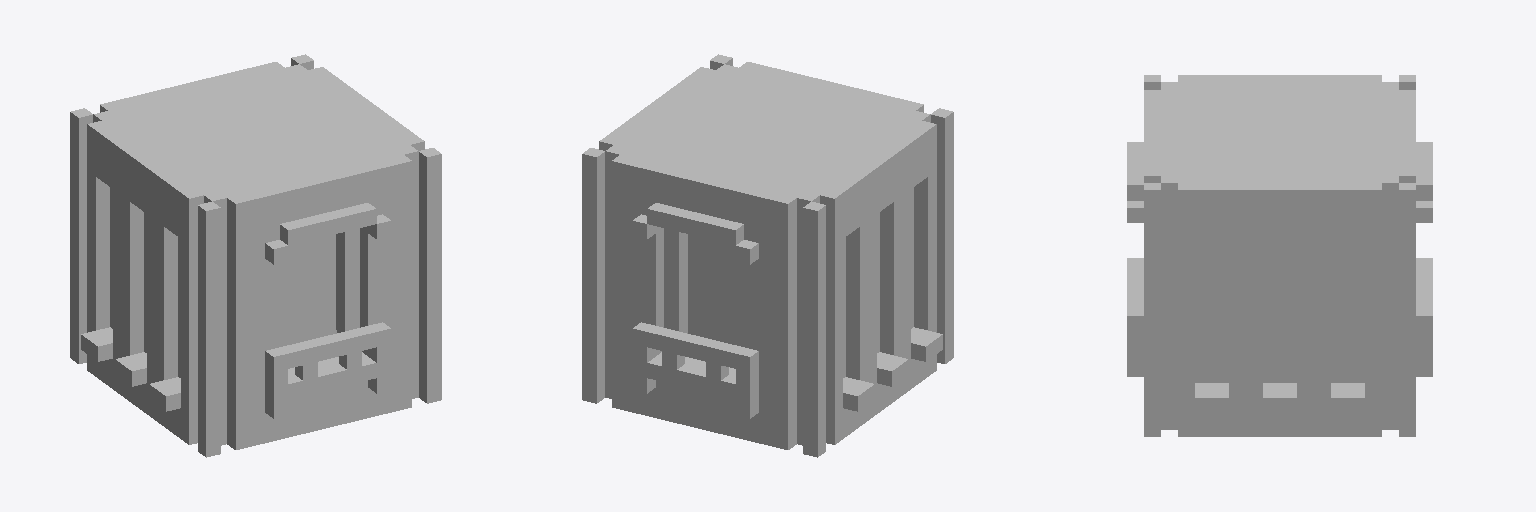
File: BiDirectional BigWindows Layer.obj
3 renders of one model, left to right at view 1: azimuth 30°, elevation 25°; view 2: azimuth 150°, elevation 25°; view 3: azimuth 270°, elevation 25°, orthographic.
Visible parts, largest first — view 1: BiDirectional BigWindows Layer; view 2: BiDirectional BigWindows Layer; view 3: BiDirectional BigWindows Layer.
Part boxes in pixels (x1,y1,x2,y2): BiDirectional BigWindows Layer: (70, 54, 441, 457); BiDirectional BigWindows Layer: (582, 54, 953, 457); BiDirectional BigWindows Layer: (1127, 75, 1432, 436).
Size of the model in its own units: 1.12 by 1 by 1.12.